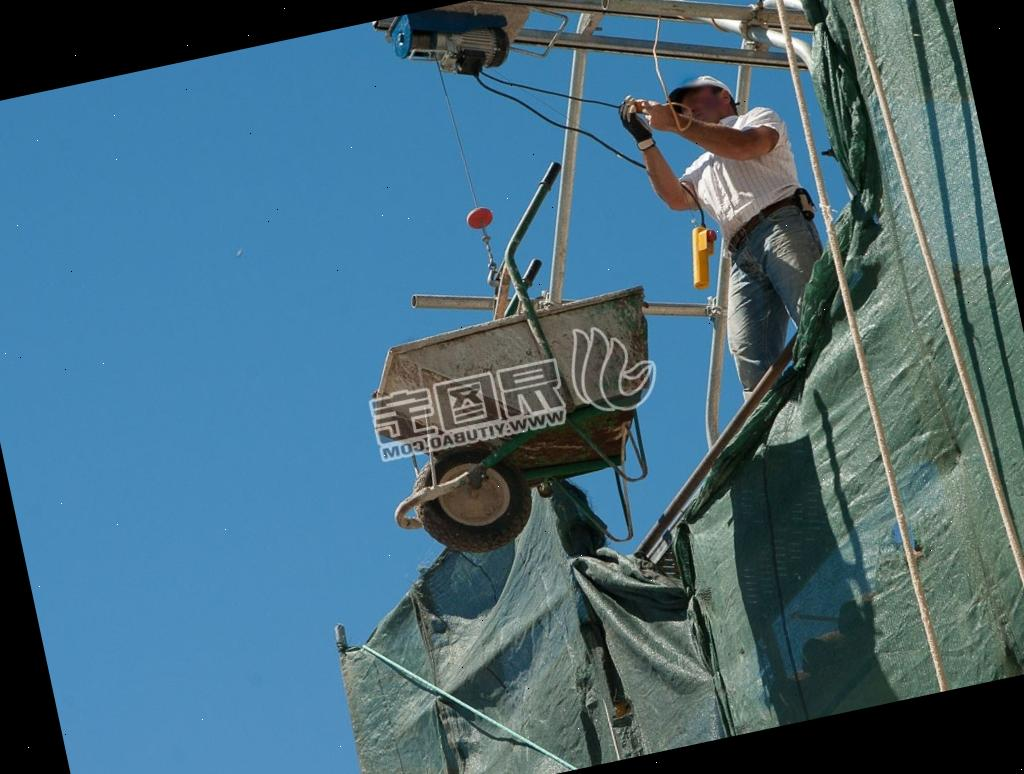no_wear: (678, 99, 808, 232)
